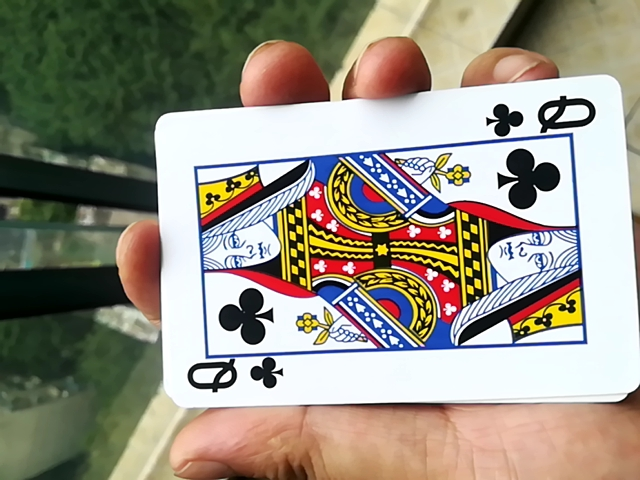mh q: (131, 91, 634, 424)
